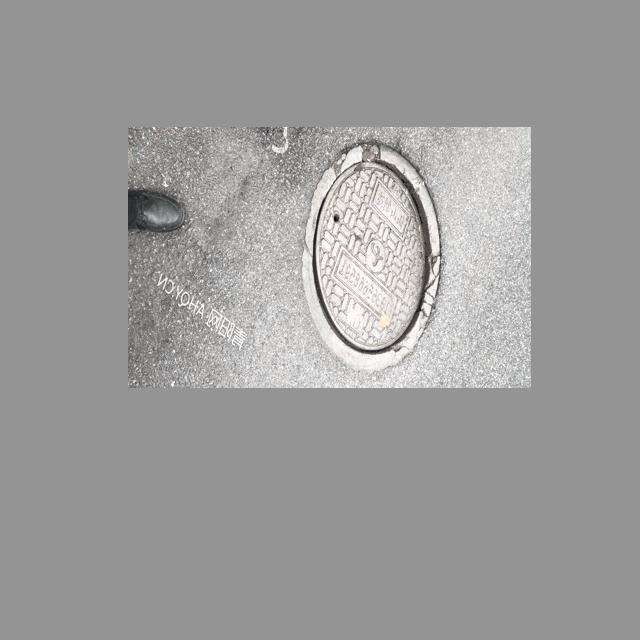circle: (291, 137, 466, 377)
